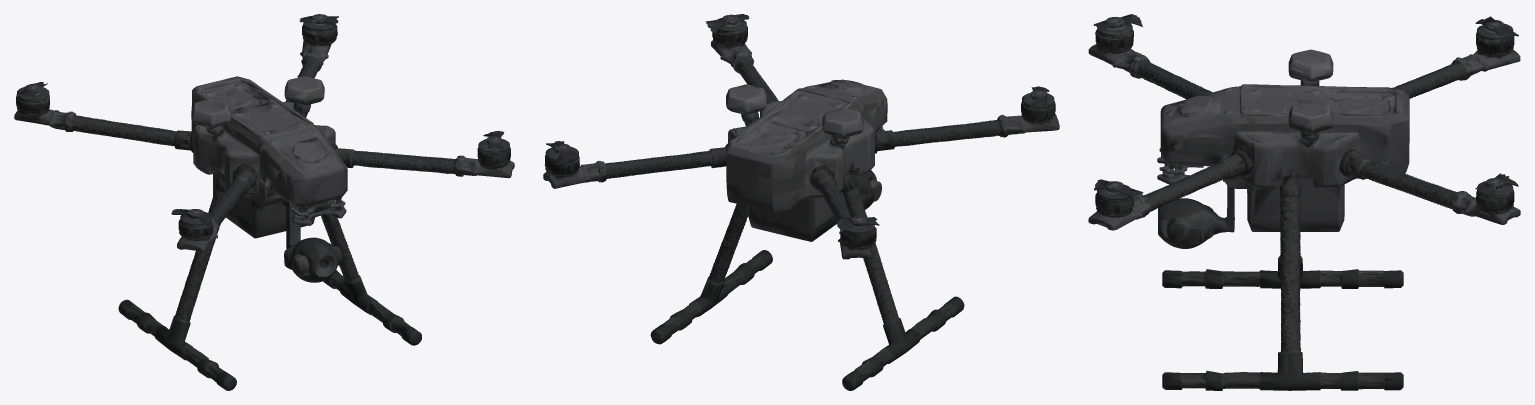
File: ranger.glb
3 views of the same model, side by side, from view 1: azimuth 30°, elevation 25°; view 2: azimuth 150°, elevation 25°; view 3: azimuth 270°, elevation 25° (orthographic). The views are drawn at different scales.
Parts seen in each view (by area): view 1: body; view 2: body; view 3: body.
Part boxes in pixels (left/top/right/bottom): body: left=14, top=14, right=514, bottom=390; body: left=543, top=14, right=1059, bottom=390; body: left=1088, top=14, right=1520, bottom=390.
Size of the model in its own units: 0.6922 by 0.4458 by 0.6824.
Materials: 1 (1 with a texture image).
